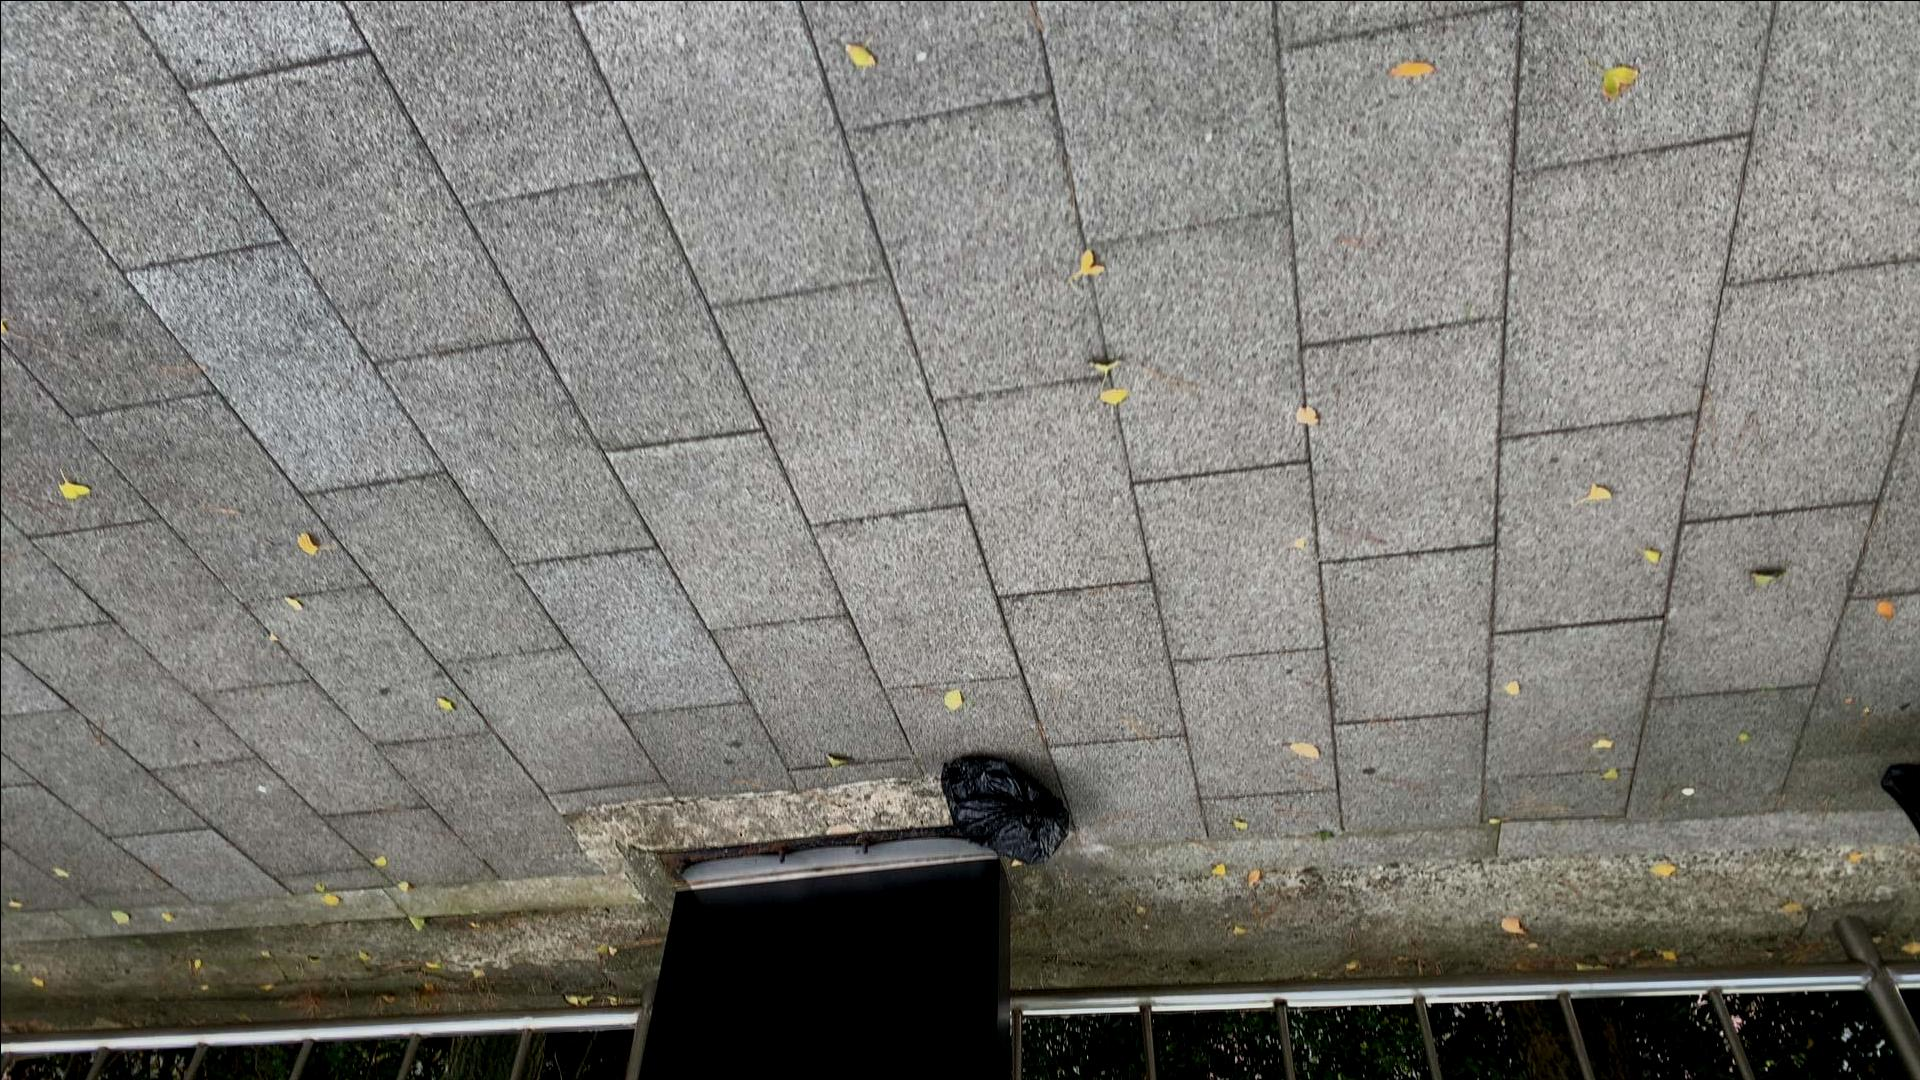black_bag: (934, 749, 1083, 872)
